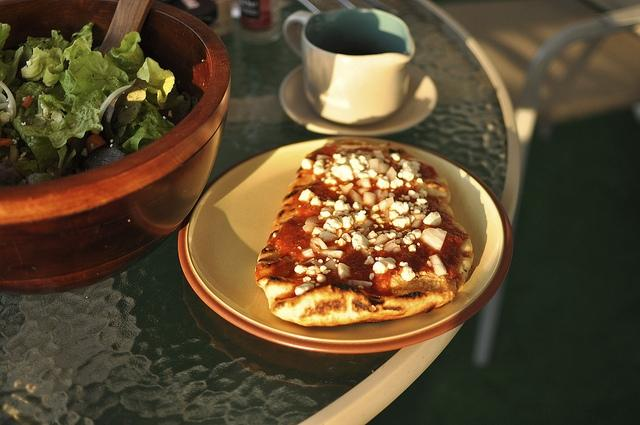lettuce: (20, 90, 107, 148), (121, 100, 176, 154), (137, 56, 175, 110), (20, 46, 66, 87), (68, 51, 109, 96), (104, 31, 145, 74), (18, 30, 70, 52), (0, 46, 24, 88), (26, 136, 61, 160), (1, 22, 11, 50), (58, 144, 68, 170)
